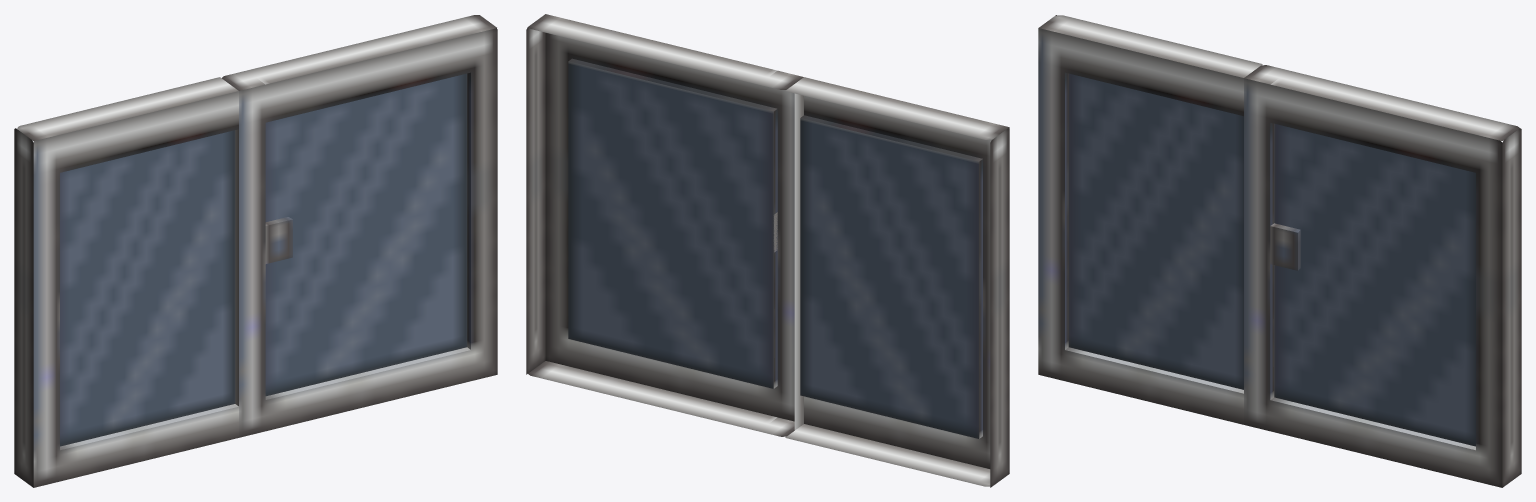
Rendered from Poly_SF_Outside_B_Window_02.obj.
3 views of the same model, side by side, from view 1: azimuth 30°, elevation 25°; view 2: azimuth 150°, elevation 25°; view 3: azimuth 330°, elevation 25° (orthographic).
Visible parts, largest first — view 1: Cube.001; view 2: Cube.001; view 3: Cube.001.
Boxes of the visible parts, x1,y1,x2,y2 form: Cube.001: [14, 15, 497, 487]; Cube.001: [526, 14, 1009, 487]; Cube.001: [1038, 15, 1521, 487].
Size of the model in its own units: 1.4 by 1 by 0.1.
Materials: 1 (1 with a texture image).
